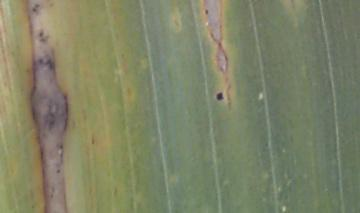tarspot: (37, 57, 55, 71), (36, 32, 51, 44), (214, 90, 225, 103), (89, 131, 97, 145), (55, 167, 63, 175), (38, 27, 44, 37), (204, 7, 210, 16), (30, 5, 37, 12), (34, 3, 41, 8)
